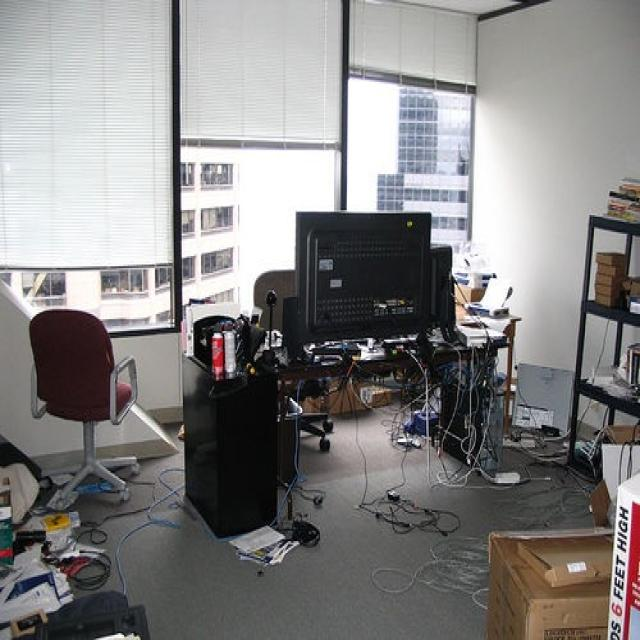chair: (24, 309, 140, 512), (252, 266, 336, 452)
tvmonitor: (296, 210, 435, 338), (517, 364, 575, 447)
